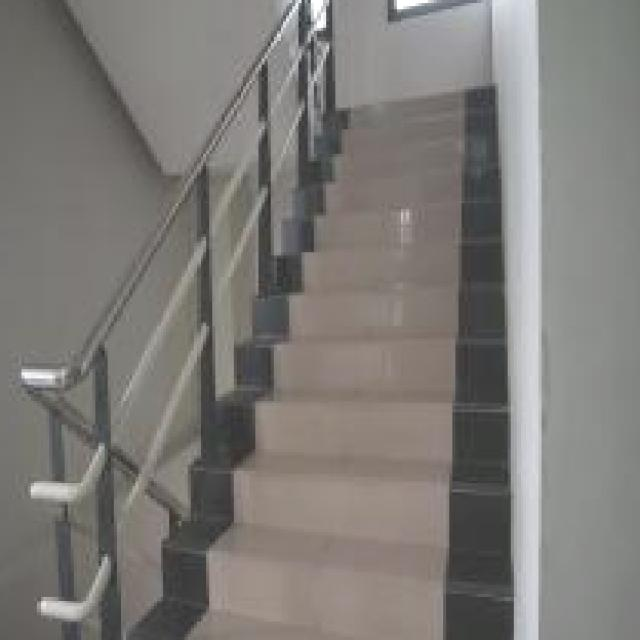upstair: (281, 96, 506, 640)
